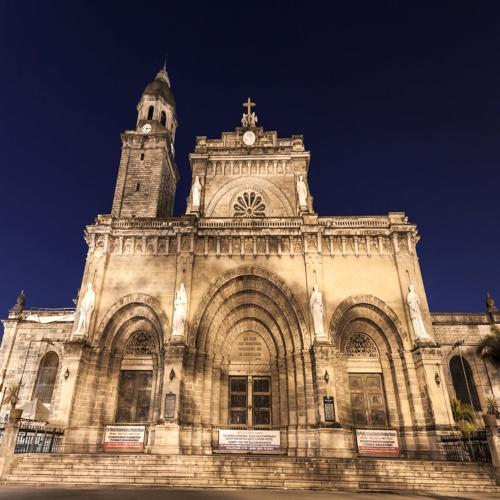Manila Cathedral Church: (4, 54, 498, 473)
